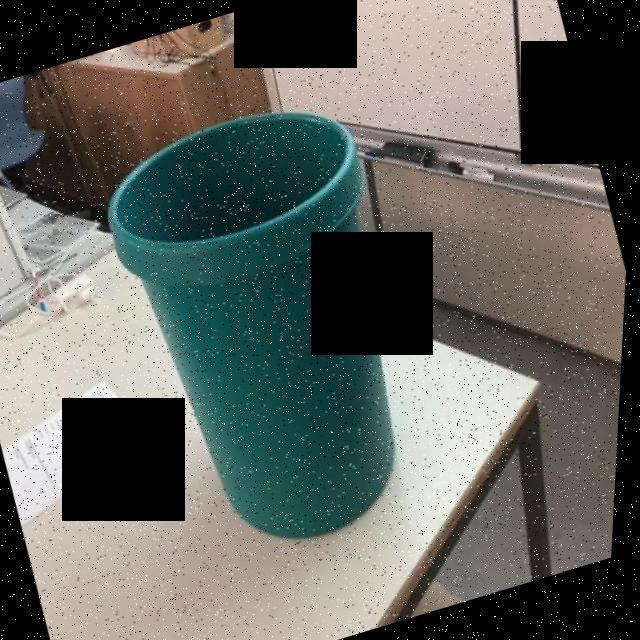bin: (63, 67, 495, 579)
